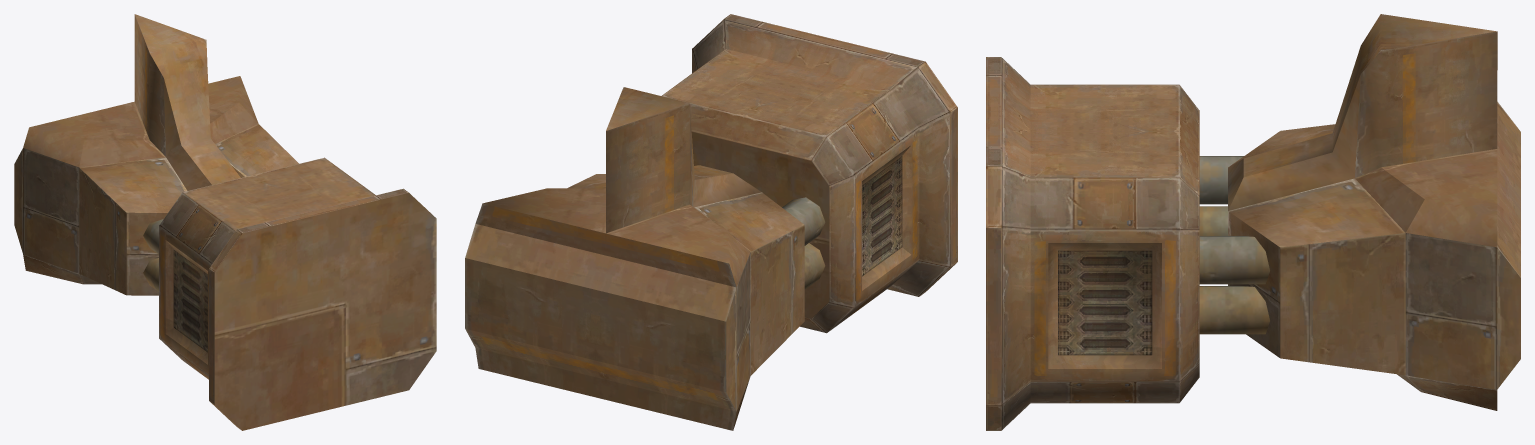
Rendered from hut_arch_industrial_tower_01_joiner.glb.
3 renders of one model, left to right at view 1: azimuth 30°, elevation 25°; view 2: azimuth 150°, elevation 25°; view 3: azimuth 270°, elevation 25°, orthographic. The views are drawn at different scales.
Parts seen in each view (by area): view 1: hut_arch_industrial_tower_01_joiner; view 2: hut_arch_industrial_tower_01_joiner; view 3: hut_arch_industrial_tower_01_joiner.
Part boxes in pixels (left/top/right/bottom): hut_arch_industrial_tower_01_joiner: left=14, top=14, right=436, bottom=430; hut_arch_industrial_tower_01_joiner: left=465, top=14, right=957, bottom=430; hut_arch_industrial_tower_01_joiner: left=986, top=14, right=1520, bottom=430.
Size of the model in its own units: 0.5047 by 0.5549 by 0.78.
2 materials, 2 textured.
